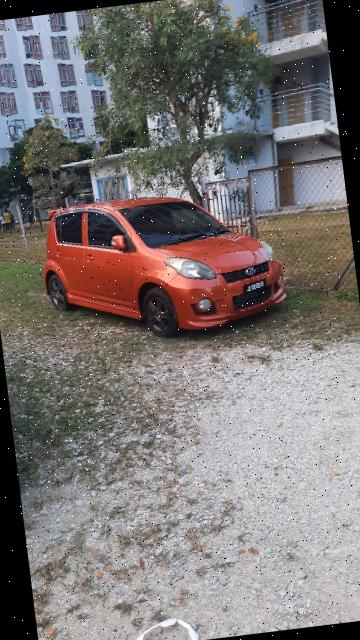License_Plate: (239, 278, 274, 296)
car: (33, 178, 293, 354)
